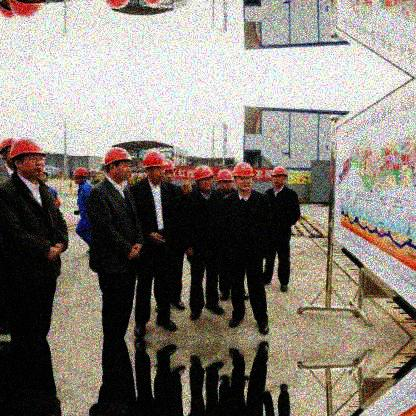helmet: (10, 137, 47, 179), (105, 147, 132, 183), (141, 149, 165, 185), (233, 162, 254, 192), (194, 165, 213, 195), (1, 136, 15, 169), (272, 166, 290, 188), (217, 169, 233, 192), (162, 159, 175, 182), (73, 167, 87, 184)
